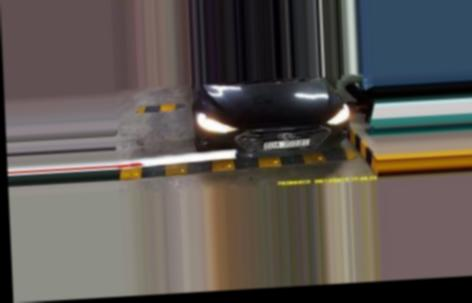License_Plate: (262, 137, 310, 152)
